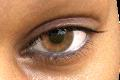eye: (42, 28, 74, 53)
